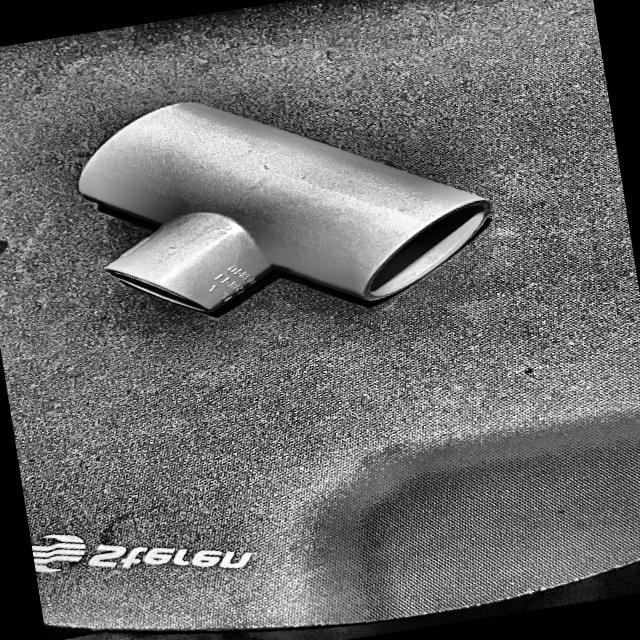EQUALTEE: (78, 102, 494, 317)
